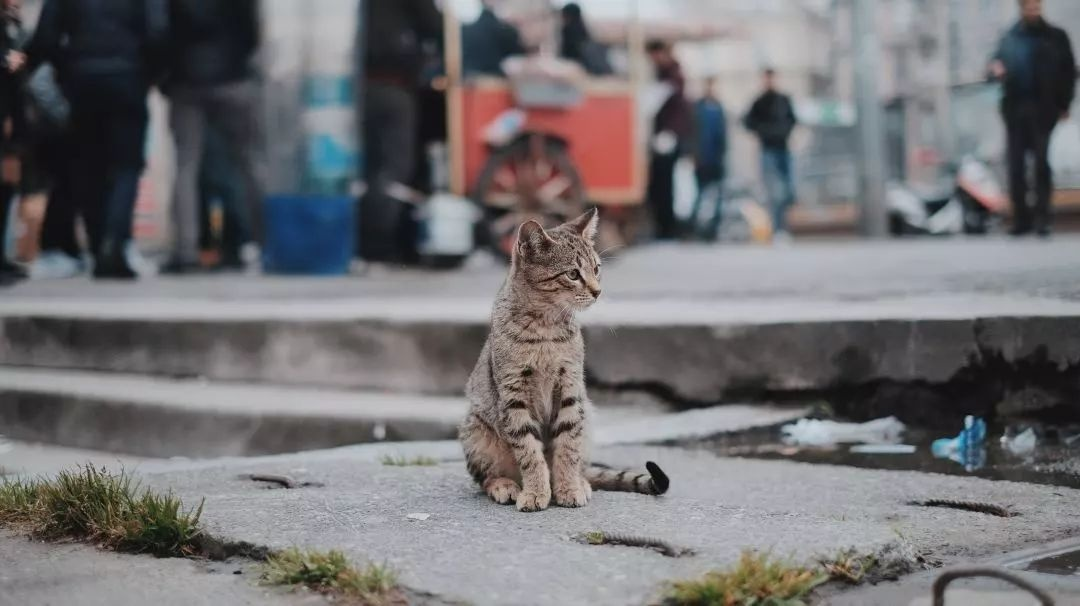cat: (464, 206, 669, 515)
